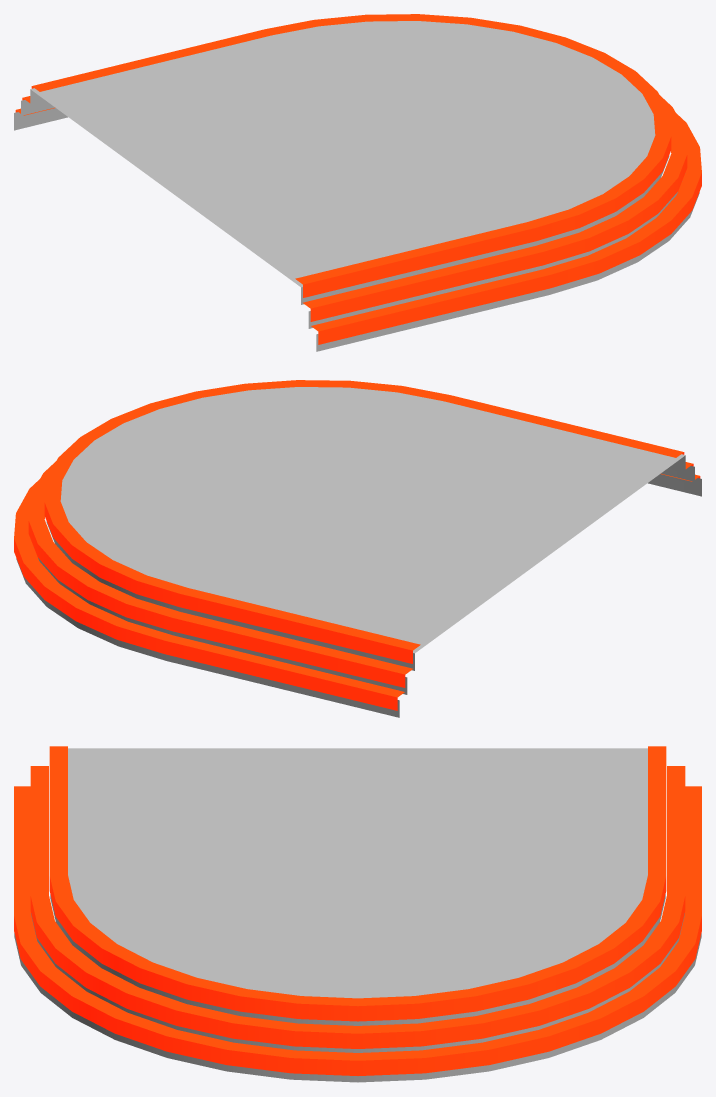
Rendered from StageFloor_l 3.fbx.
3 views of the same model, one above another, from view 1: azimuth 30°, elevation 25°; view 2: azimuth 150°, elevation 25°; view 3: azimuth 270°, elevation 25° (orthographic). The views are drawn at different scales.
Visible parts, largest first — view 1: Circle.010; view 2: Circle.010; view 3: Circle.010.
Part boxes in pixels (bbox=[...]): Circle.010: bbox=[14, 14, 701, 351]; Circle.010: bbox=[14, 380, 701, 717]; Circle.010: bbox=[14, 746, 701, 1082].
Size of the model in its own units: 887 by 935 by 94.26.
